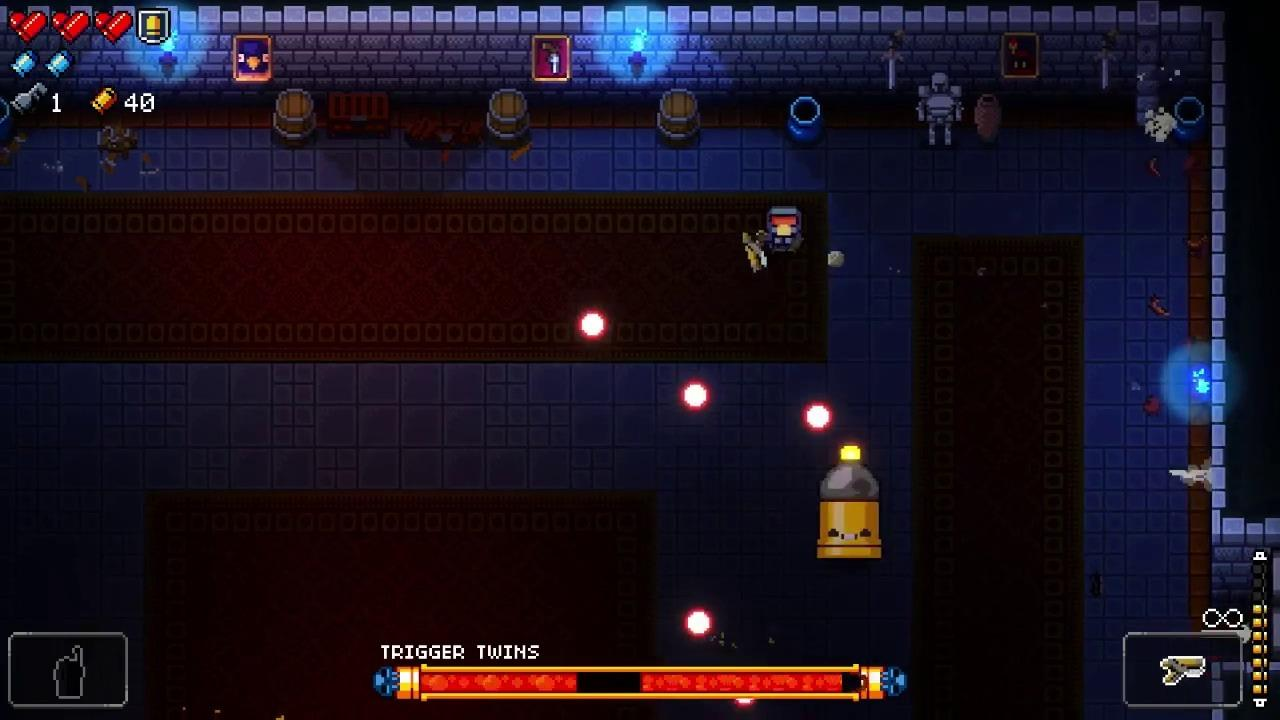boss_smiley: (812, 461, 884, 562)
bullet: (678, 380, 712, 414), (575, 308, 608, 342), (801, 402, 833, 433), (685, 607, 714, 640)
player: (765, 209, 805, 258)
